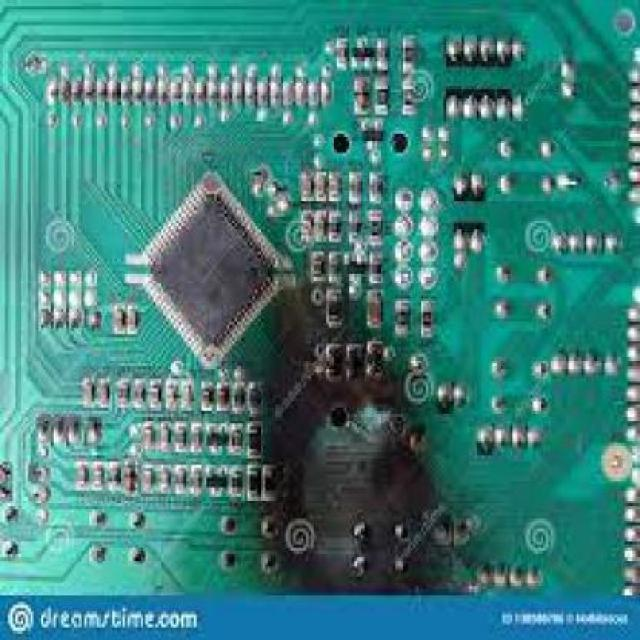Burn: (249, 225, 451, 592)
